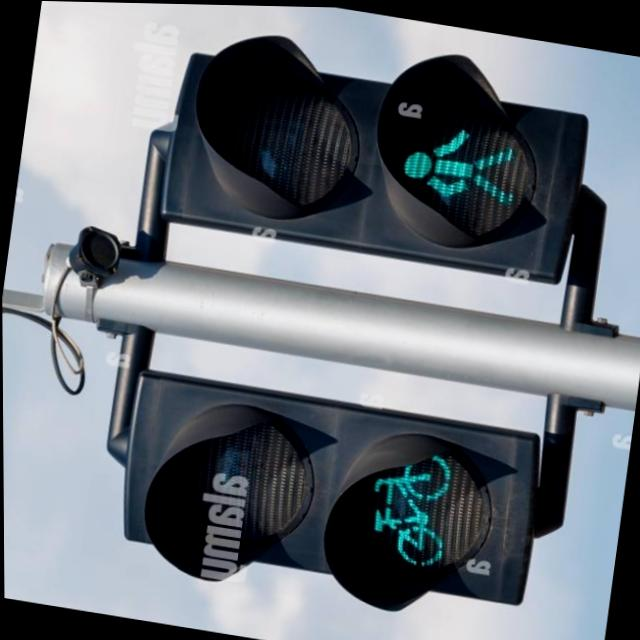green_light: (392, 126, 523, 210)
